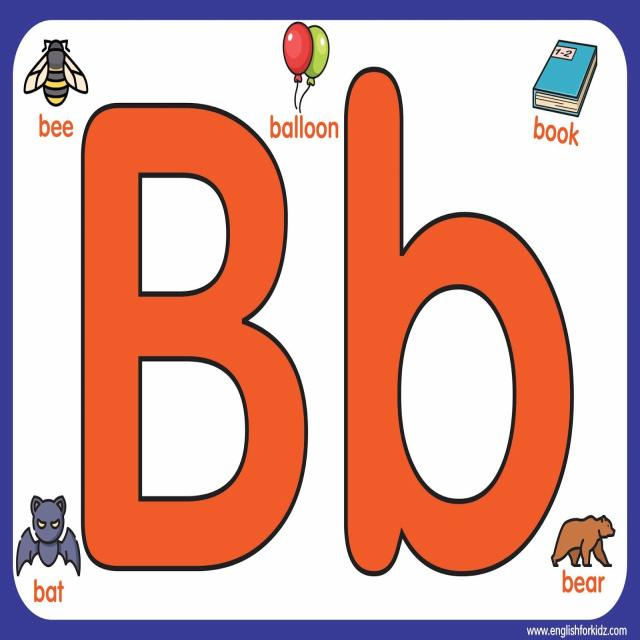B: (69, 95, 312, 599)
